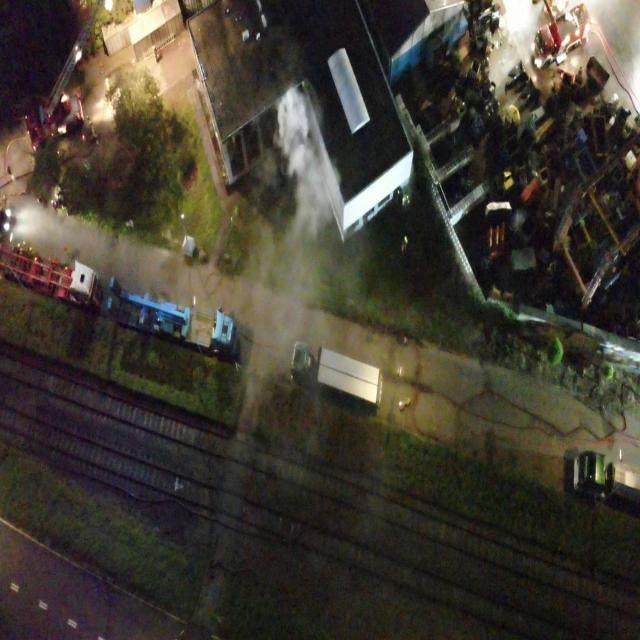Smoke: (198, 80, 344, 460)
